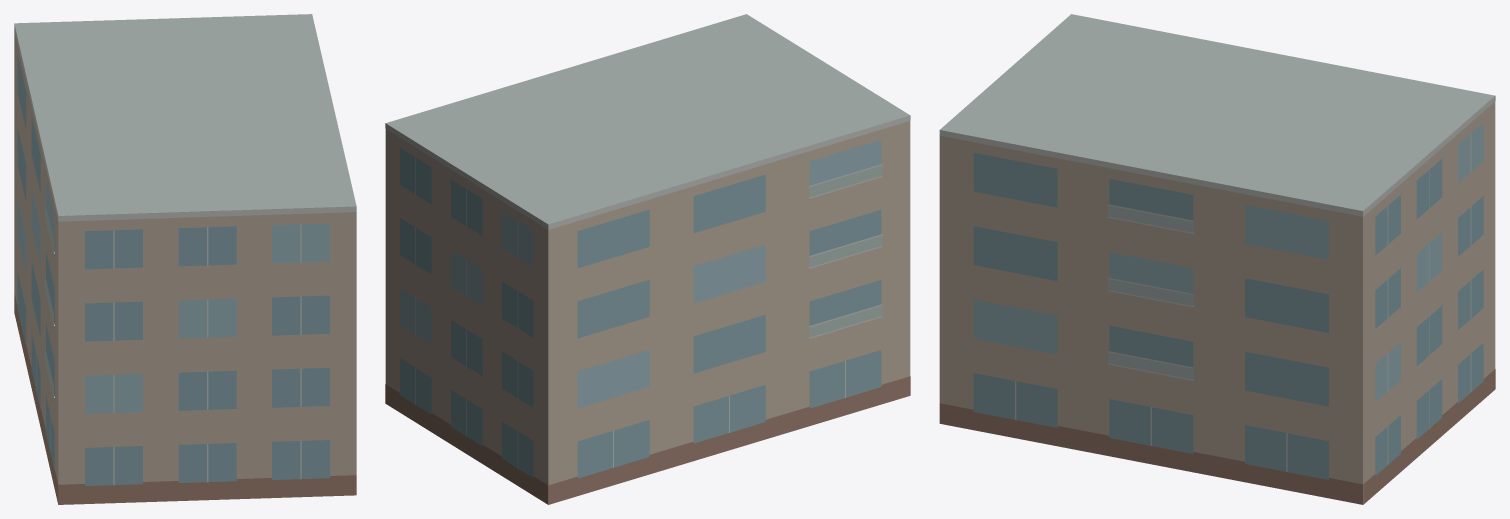
Rendered from survey-upis-32633242.glb.
3 views of the same model, side by side, from view 1: azimuth 30°, elevation 25°; view 2: azimuth 150°, elevation 25°; view 3: azimuth 270°, elevation 25° (orthographic). The views are drawn at different scales.
Parts seen in each view (by area): view 1: survey-upis-32633242.tmp; view 2: survey-upis-32633242.tmp; view 3: survey-upis-32633242.tmp.
Boxes of the visible parts, left/top/right/bottom form: survey-upis-32633242.tmp: left=14, top=14, right=356, bottom=504; survey-upis-32633242.tmp: left=385, top=14, right=910, bottom=504; survey-upis-32633242.tmp: left=939, top=14, right=1495, bottom=504.
Size of the model in its own units: 18 by 12.5 by 21.45.
